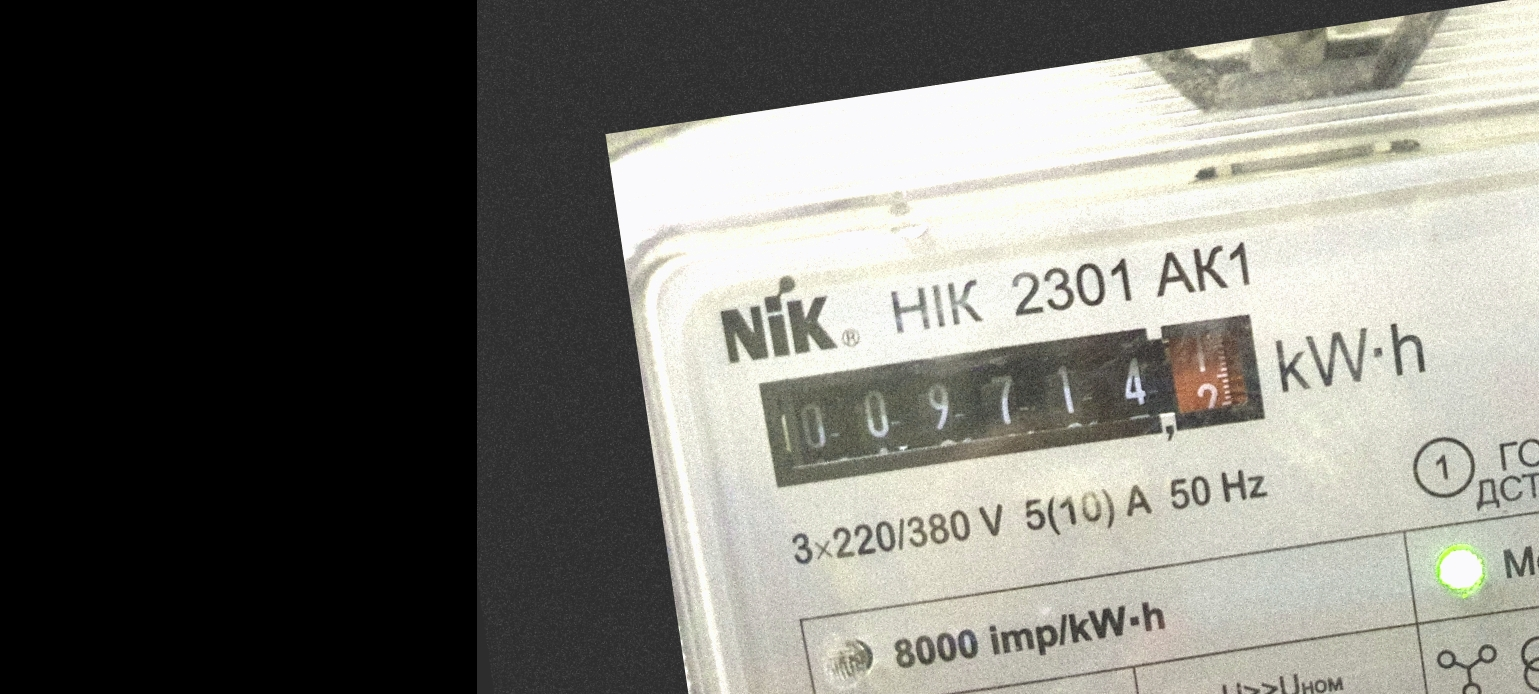0: (795, 396, 832, 453), (859, 384, 893, 440)
1: (1051, 359, 1082, 416), (1189, 330, 1210, 374)
2: (1194, 377, 1222, 410)
4: (1116, 352, 1152, 410)
7: (988, 370, 1021, 427)
9: (921, 377, 956, 433)
screen: (742, 292, 1285, 510)
